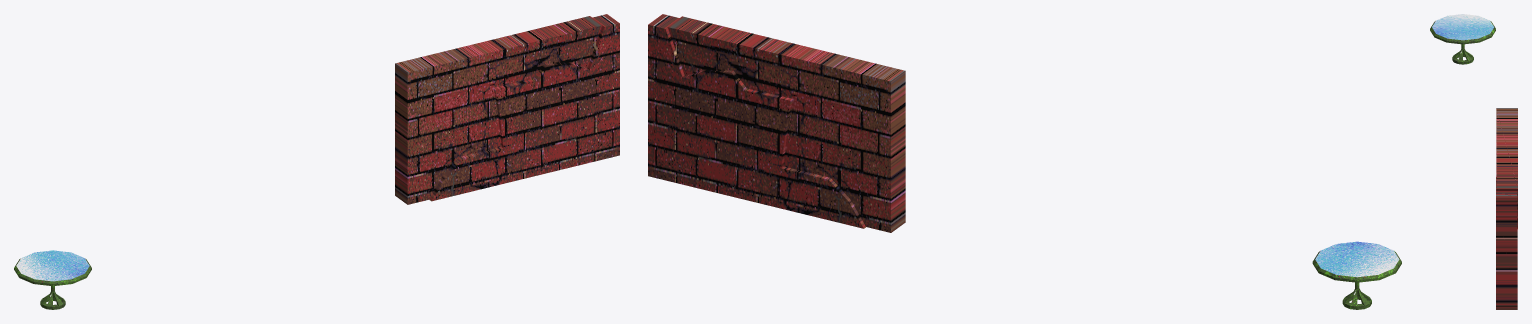
The model's file is la silla y la pared.fbx.
3 renders of one model, left to right at view 1: azimuth 30°, elevation 25°; view 2: azimuth 150°, elevation 25°; view 3: azimuth 270°, elevation 25°, orthographic. The views are drawn at different scales.
Parts seen in each view (by area): view 1: Cube.002, Cylinder.001; view 2: Cube.002, Cylinder.001; view 3: Cube.002, Cylinder.001.
Part boxes in pixels (x1,y1,x2,y2): Cube.002: [395, 14, 619, 204]; Cylinder.001: [14, 250, 91, 309]; Cube.002: [648, 14, 905, 232]; Cylinder.001: [1312, 241, 1401, 309]; Cube.002: [1496, 108, 1517, 309]; Cylinder.001: [1430, 14, 1495, 64].
Bounding box in the file's own units: 6684 × 1384 × 967.
Materials: 2 (2 with a texture image).
